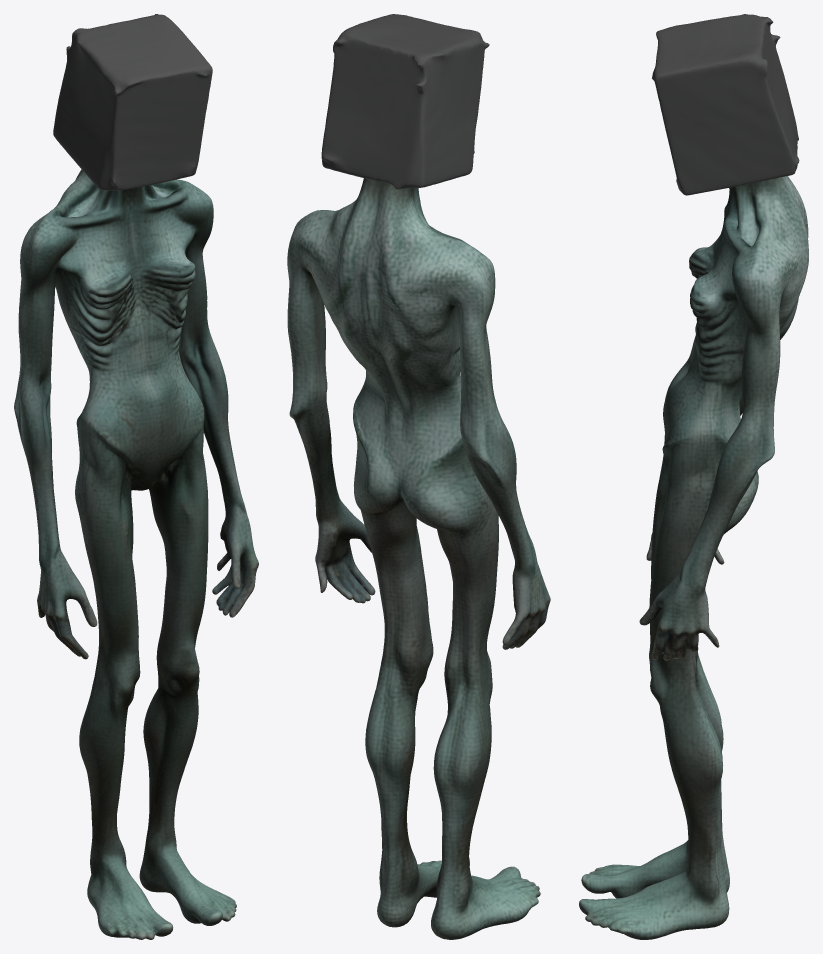
The model's file is sou2.glb.
3 renders of one model, left to right at view 1: azimuth 30°, elevation 25°; view 2: azimuth 150°, elevation 25°; view 3: azimuth 270°, elevation 25°, orthographic. The views are drawn at different scales.
Bounding box in the file's own units: 0.2262 × 0.8911 × 0.21.
1 material, 1 textured.
